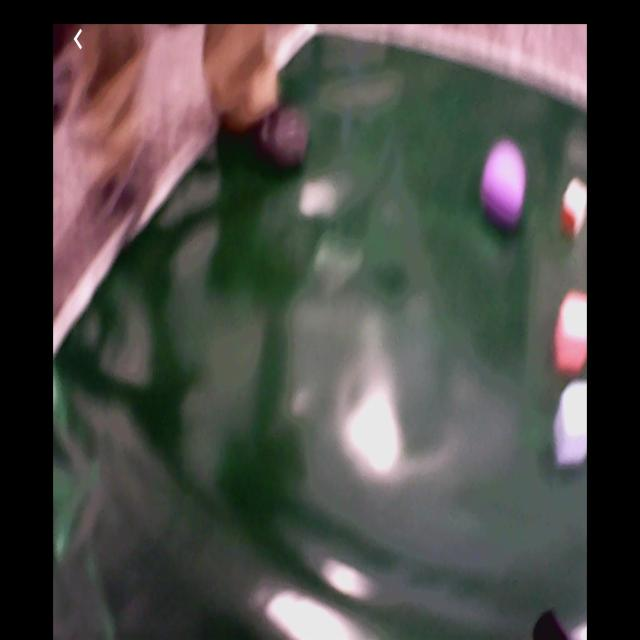ball: (482, 146, 527, 226)
